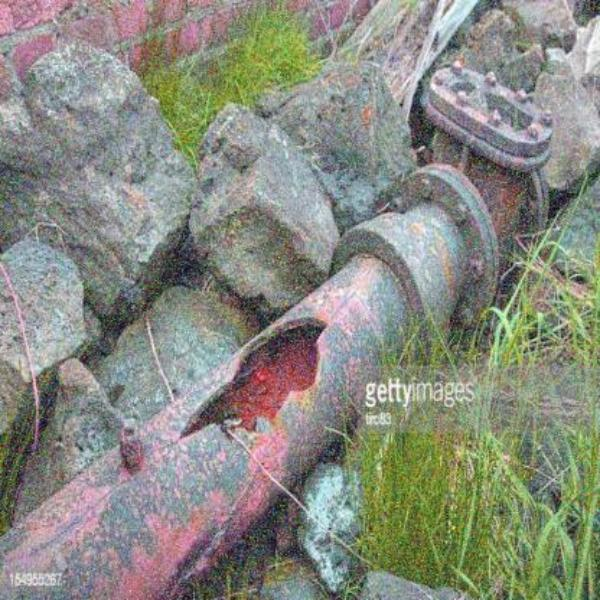water: (152, 268, 368, 504)
